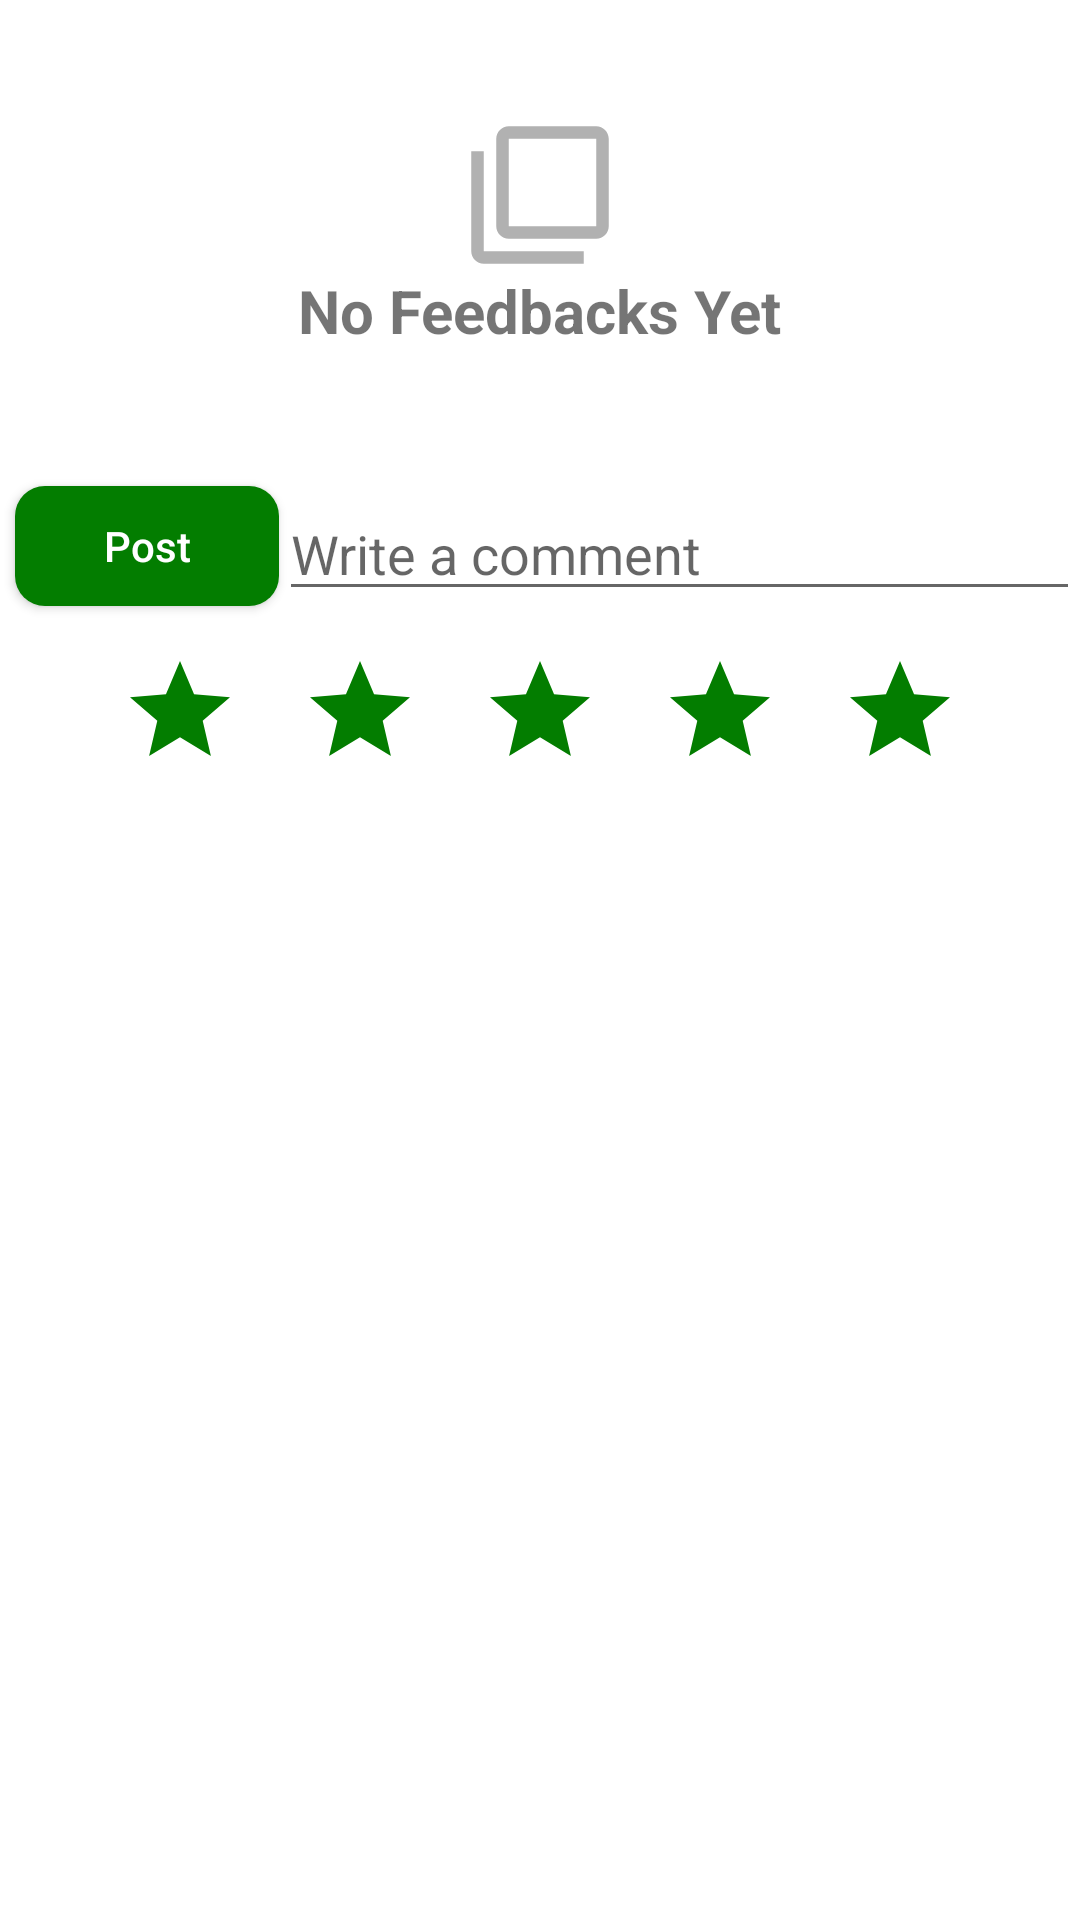

Icons on this 1080 × 1920 Android screen, each with its box as (x1, y1, x2, y2):
filter none: (471, 126, 609, 264)
star: (130, 661, 230, 756), (310, 661, 410, 756), (490, 661, 590, 756), (670, 661, 770, 756), (850, 661, 950, 756)
